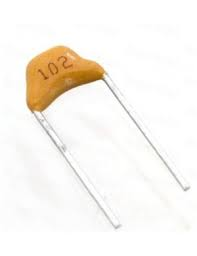ceramic capacitor: (12, 37, 141, 142)
